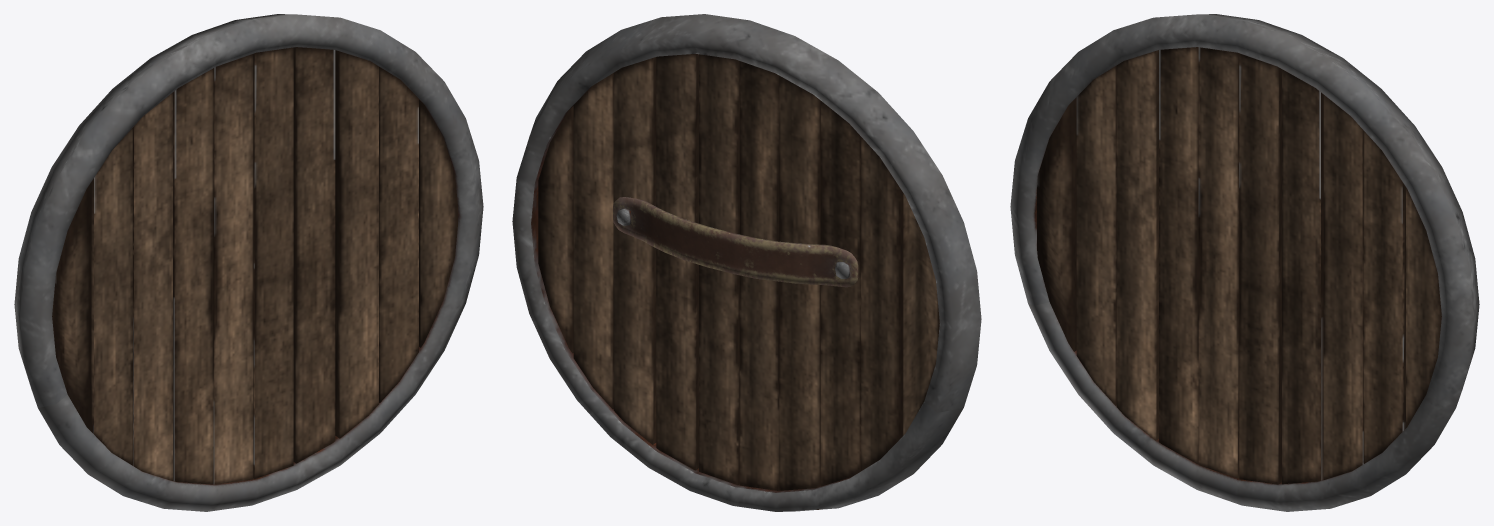
The model's file is shield_wooden.glb.
The picture shows the model from 3 angles, left to right: view 1: azimuth 30°, elevation 25°; view 2: azimuth 150°, elevation 25°; view 3: azimuth 330°, elevation 25°; orthographic projection.
Parts seen in each view (by area): view 1: shield.000_shield.002; view 2: shield.000_shield.002; view 3: shield.000_shield.002.
Part boxes in pixels (box(x1,y1,x2,y2)): shield.000_shield.002: box(14, 14, 483, 511); shield.000_shield.002: box(512, 14, 981, 511); shield.000_shield.002: box(1010, 14, 1479, 511).
Size of the model in its own units: 0.8001 by 0.8001 by 0.0957.
1 material, 1 textured.
